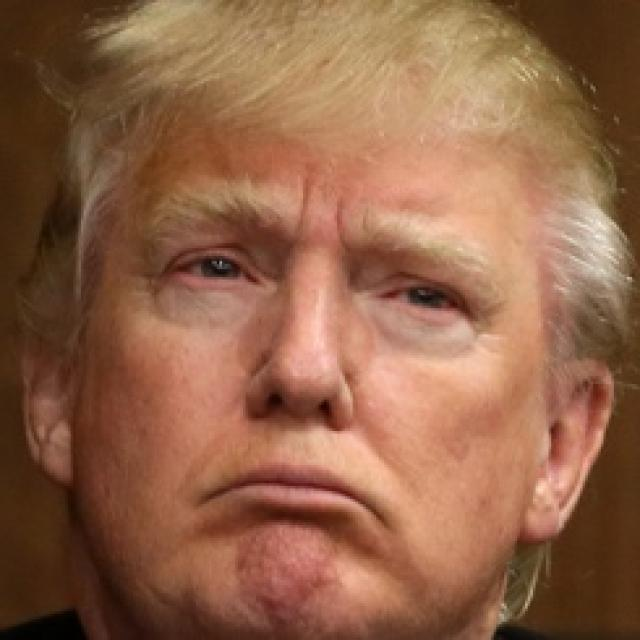Depress: (65, 72, 553, 637)
